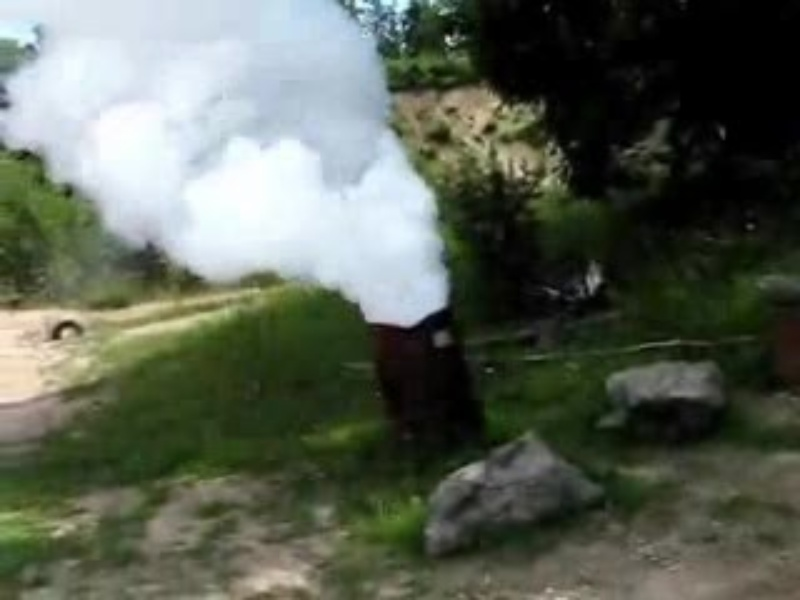smoke: (14, 1, 432, 304)
